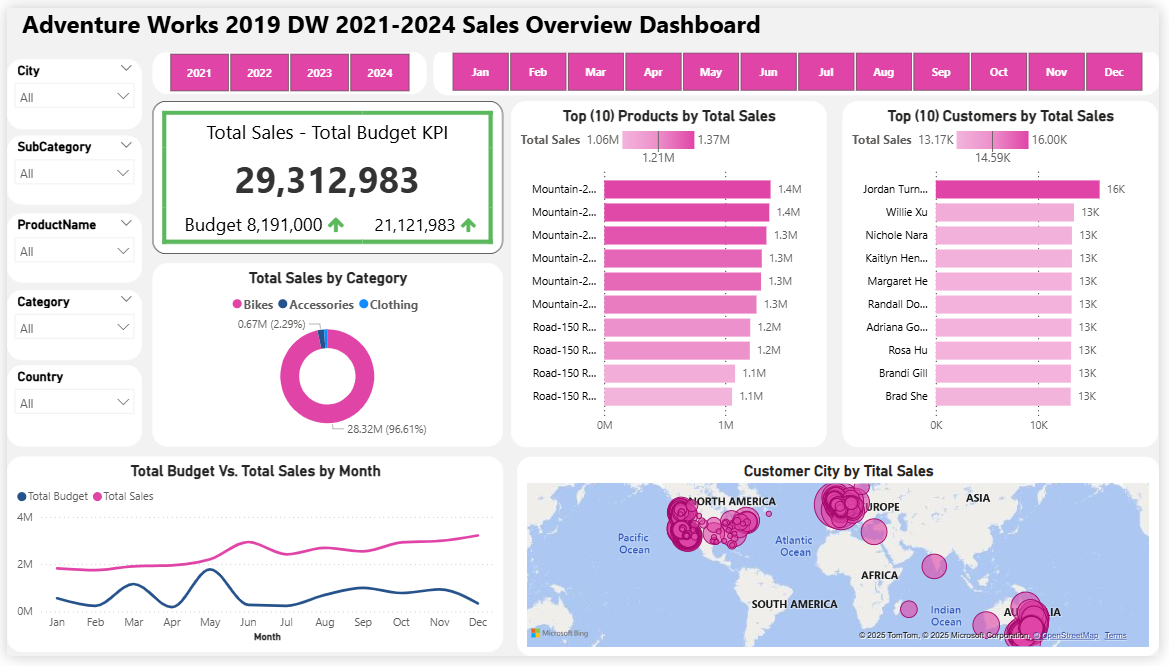

Layout of this report page (visuals, bound fields, positions):
{"tool":"powerbi","page":{"name":"Sales_Overview","canvas":[1280,720],"ordinal":0},"visuals":[{"type":"slicer","fields":{"Values":["DimDate_Table.Year"]},"box":[162.4,49,304.9,47.5],"z":0},{"type":"slicer","fields":{"Values":["DimDate_Table.MonthShort"]},"box":[473.4,44.4,807.3,52.1],"z":1000},{"type":"textbox","box":[12.3,0,1268.4,49],"z":2000},{"type":"clusteredBarChart","title":"Top (10) Customers by Total Sales","fields":{"Category":["DimCustomer_Table.FullName"],"Y":["DAX_Measures.Total Sales"]},"box":[928.3,102.6,350.8,384.5],"z":3000},{"type":"clusteredBarChart","title":"Top (10) Products by Total Sales","fields":{"Y":["DAX_Measures.Total Sales"],"Category":["DimProduct_Table.ProductName"]},"box":[560.7,102.6,350.8,384.5],"z":4000},{"type":"slicer","fields":{"Values":["DimCustomer_Table.City"]},"box":[0,56.7,150.1,78.1],"z":5000},{"type":"slicer","fields":{"Values":["DimProduct_Table.Category"]},"box":[0,312.5,150.1,78.1],"z":6000},{"type":"slicer","fields":{"Values":["DimProduct_Table.ProductName"]},"box":[0,228.3,150.1,76.6],"z":7000},{"type":"slicer","fields":{"Values":["DimProduct_Table.SubCategory"]},"box":[0,142.5,150,76.6],"z":8000},{"type":"map","title":"Customer City by Tital Sales","fields":{"Category":["DimCustomer_Table.City"],"Size":["DAX_Measures.Total Sales"]},"box":[566.8,497.9,713.9,222.1],"z":9000},{"type":"BBED0A4D4D8D44CE93CF2DAFADEE466C","fields":{"actual":["DAX_Measures.Total Sales"],"target1":["DAX_Measures.Total Budget"],"target2":["DAX_Measures.Sales - Budget"]},"box":[162.4,102.6,389.1,170],"z":10000},{"type":"lineChart","title":"Total Budget Vs. Total Sales by Month","fields":{"Y":["DAX_Measures.Total Budget","DAX_Measures.Total Sales"],"Category":["DimDate_Table.MonthShort"]},"box":[0,497.9,551.5,217.5],"z":11000},{"type":"donutChart","fields":{"Category":["DimProduct_Table.Category"],"Y":["DAX_Measures.Total Sales"]},"box":[162.4,283.4,389.1,203.7],"z":12000},{"type":"slicer","fields":{"Values":["DimCustomer_Table.Country"]},"box":[0,396.8,150.1,90.4],"z":13000}]}

Visuals, with their boxes in screenshot pixels (x1, y1, x2, y2), scaled from the page's 1280x720 canvas onto the 1169x666 screenshot:
slicer - DimDate_Table.Year: box(148, 45, 427, 89)
slicer - DimDate_Table.MonthShort: box(432, 41, 1168, 89)
textbox: box(11, 0, 1168, 45)
"Top (10) Customers by Total Sales" clusteredBarChart: box(848, 95, 1168, 451)
"Top (10) Products by Total Sales" clusteredBarChart: box(512, 95, 832, 451)
slicer - DimCustomer_Table.City: box(0, 52, 137, 125)
slicer - DimProduct_Table.Category: box(0, 289, 137, 361)
slicer - DimProduct_Table.ProductName: box(0, 211, 137, 282)
slicer - DimProduct_Table.SubCategory: box(0, 132, 137, 203)
"Customer City by Tital Sales" map: box(518, 461, 1168, 665)
BBED0A4D4D8D44CE93CF2DAFADEE466C - DAX_Measures.Total Sales x DAX_Measures.Total Budget: box(148, 95, 504, 252)
"Total Budget Vs. Total Sales by Month" lineChart: box(0, 461, 504, 662)
donutChart - DimProduct_Table.Category x DAX_Measures.Total Sales: box(148, 262, 504, 451)
slicer - DimCustomer_Table.Country: box(0, 367, 137, 451)
